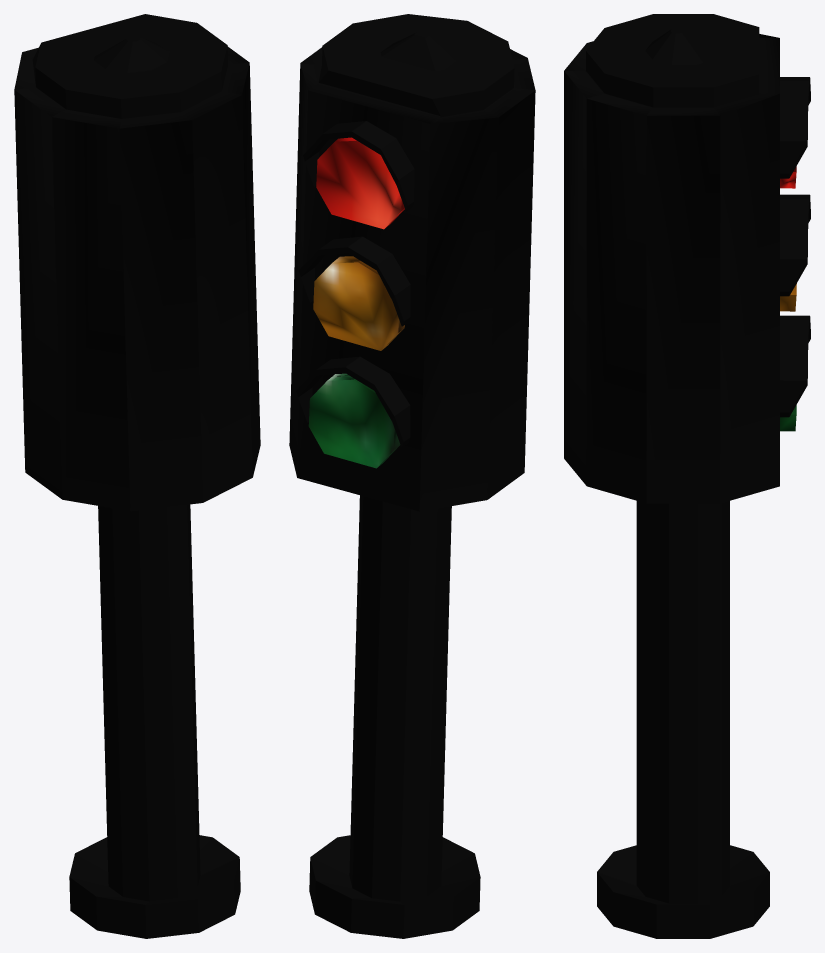
File: trafik lambası.fbx
3 renders of one model, left to right at view 1: azimuth 30°, elevation 25°; view 2: azimuth 150°, elevation 25°; view 3: azimuth 270°, elevation 25°, orthographic.
Parts seen in each view (by area): view 1: İkosfer.002; view 2: İkosfer.002; view 3: İkosfer.002.
Boxes of the visible parts, x1=… form: İkosfer.002: x1=14, y1=14, x2=260, y2=938; İkosfer.002: x1=289, y1=14, x2=535, y2=938; İkosfer.002: x1=564, y1=14, x2=810, y2=938.
Size of the model in its own units: 40.12 by 160 by 41.35.
1 material, 1 textured.
